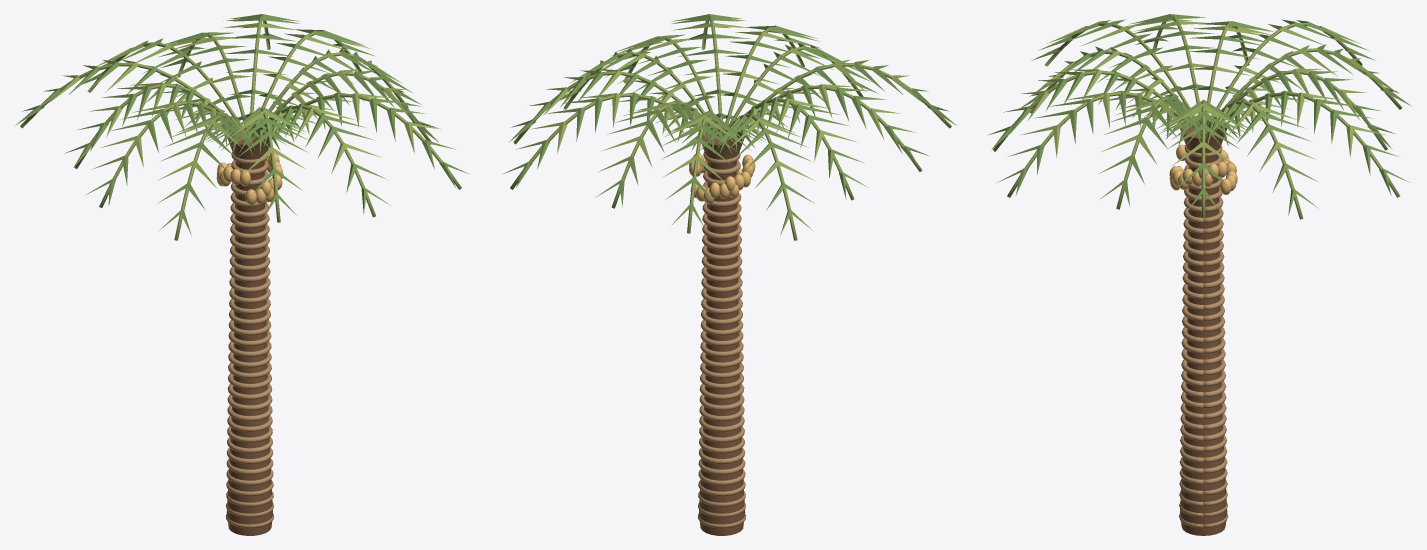
The model's file is date-palm.glb.
The picture shows the model from 3 angles, left to right: view 1: azimuth 30°, elevation 25°; view 2: azimuth 150°, elevation 25°; view 3: azimuth 270°, elevation 25°; orthographic projection.
Visible parts, largest first — view 1: date-palm__green, date-palm__leaflight, date-palm__woodlight, date-palm__wood, date-palm__ochre; view 2: date-palm__green, date-palm__leaflight, date-palm__woodlight, date-palm__wood, date-palm__ochre; view 3: date-palm__green, date-palm__leaflight, date-palm__woodlight, date-palm__wood, date-palm__ochre.
Part boxes in pixels (x1=…): date-palm__green: x1=15, y1=14, x2=469, y2=235; date-palm__leaflight: x1=20, y1=15, x2=461, y2=240; date-palm__woodlight: x1=226, y1=152, x2=274, y2=528; date-palm__wood: x1=226, y1=128, x2=272, y2=535; date-palm__ochre: x1=216, y1=153, x2=283, y2=205; date-palm__green: x1=502, y1=14, x2=956, y2=235; date-palm__leaflight: x1=510, y1=15, x2=951, y2=240; date-palm__woodlight: x1=697, y1=152, x2=745, y2=528; date-palm__wood: x1=699, y1=127, x2=745, y2=535; date-palm__ochre: x1=689, y1=153, x2=755, y2=203; date-palm__green: x1=987, y1=14, x2=1410, y2=215; date-palm__leaflight: x1=993, y1=15, x2=1402, y2=219; date-palm__woodlight: x1=1179, y1=145, x2=1228, y2=528; date-palm__wood: x1=1180, y1=120, x2=1227, y2=535; date-palm__ochre: x1=1169, y1=144, x2=1237, y2=194.
Bounding box in the file's own units: 4.73 × 5.81 × 4.86.
